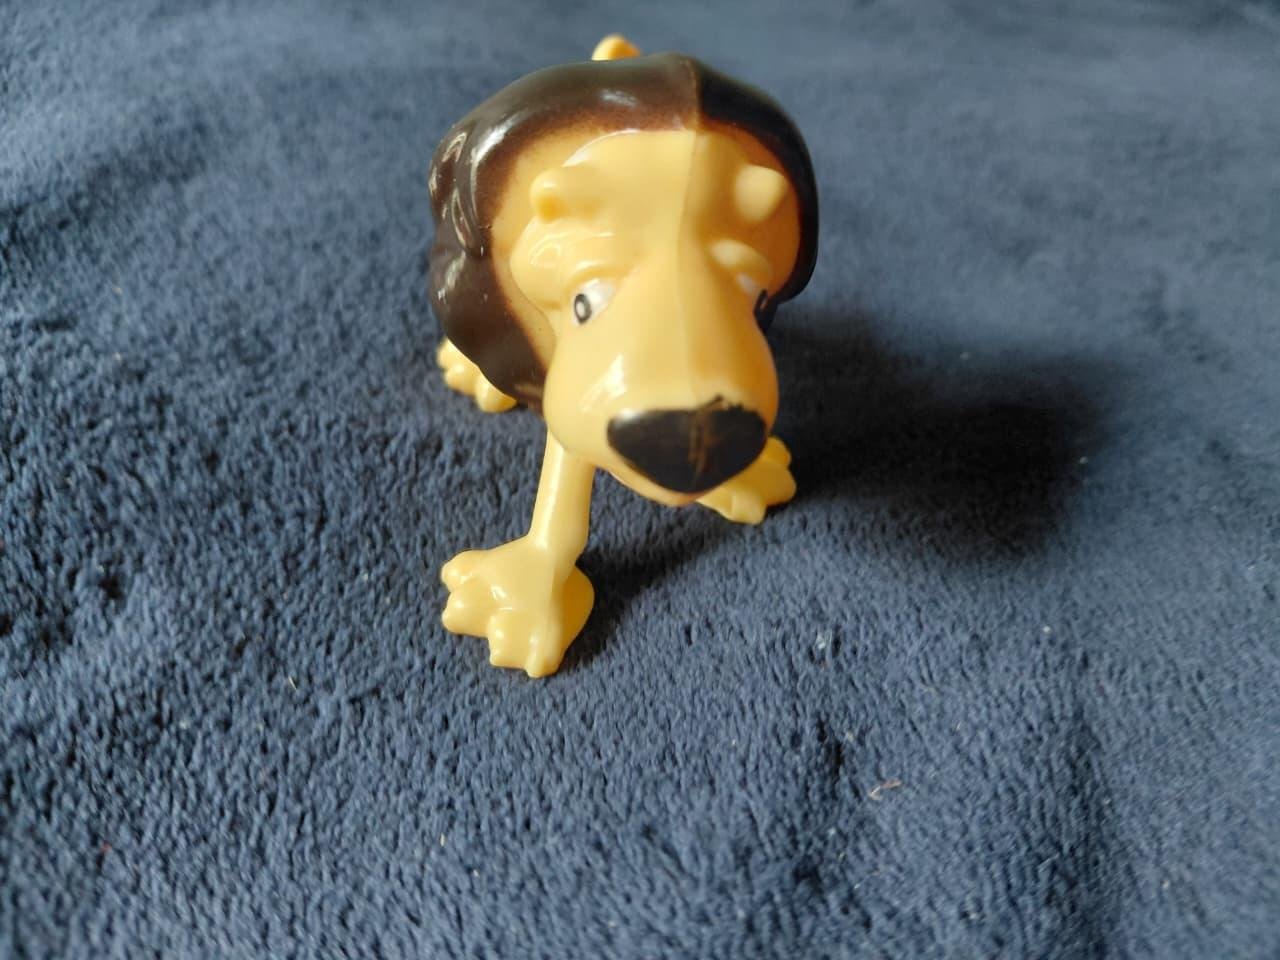lion: (390, 24, 839, 691)
